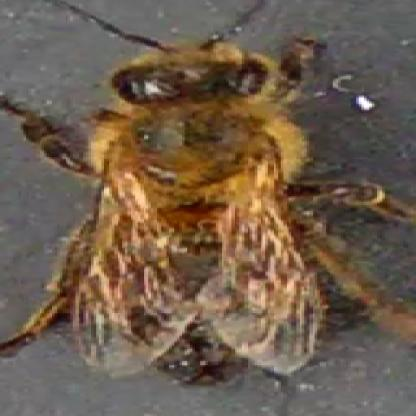bee: (89, 31, 354, 365)
